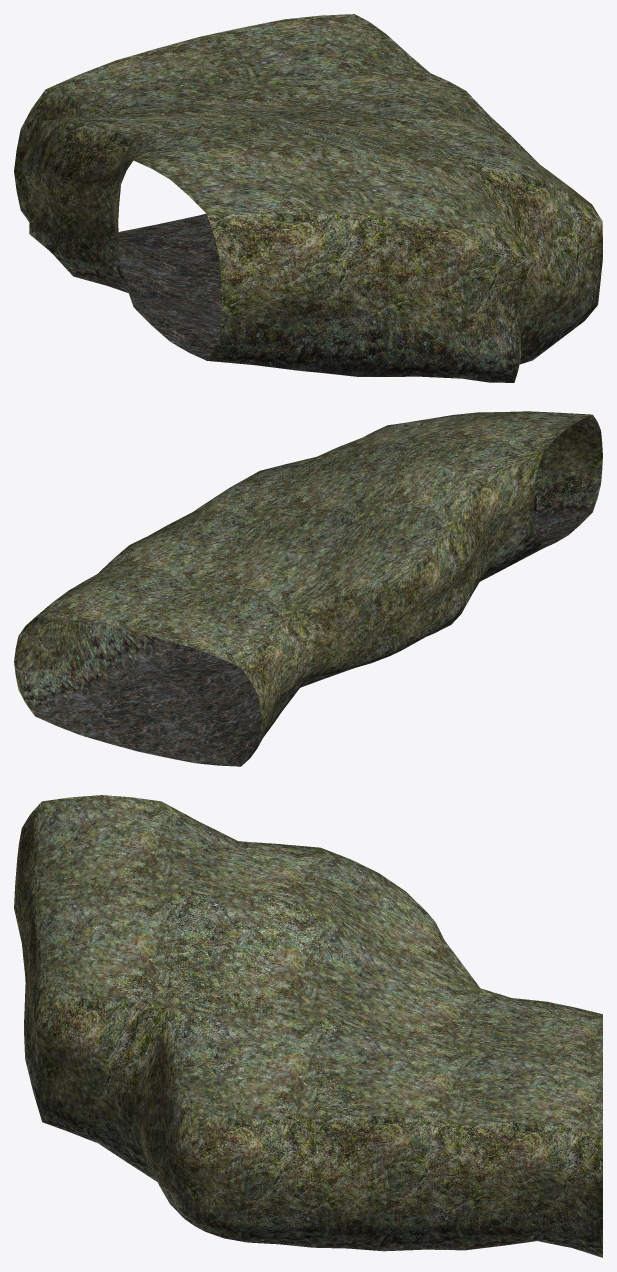
Rendered from thm_all_cave_s03_damprock_mirror_r4_r4.fbx.
The picture shows the model from 3 angles, top to bottom: view 1: azimuth 30°, elevation 25°; view 2: azimuth 150°, elevation 25°; view 3: azimuth 270°, elevation 25°; orthographic projection. The views are drawn at different scales.
Parts seen in each view (by area): view 1: mesh_node; view 2: mesh_node; view 3: mesh_node.
Boxes of the visible parts, x1,y1,x2,y2 form: mesh_node: (14, 14, 602, 382); mesh_node: (14, 411, 602, 766); mesh_node: (14, 795, 602, 1257).
Size of the model in its own units: 26.79 by 16.79 by 32.05.
